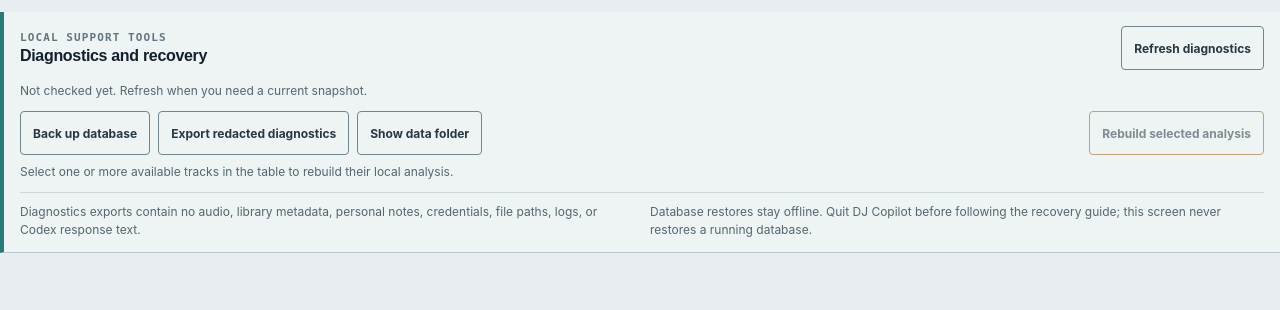
Test: DiagnosticsPanel › gives a failed database backup an actionable retry path
Click the button "Back up database": [85, 133] box [20,111,150,155]
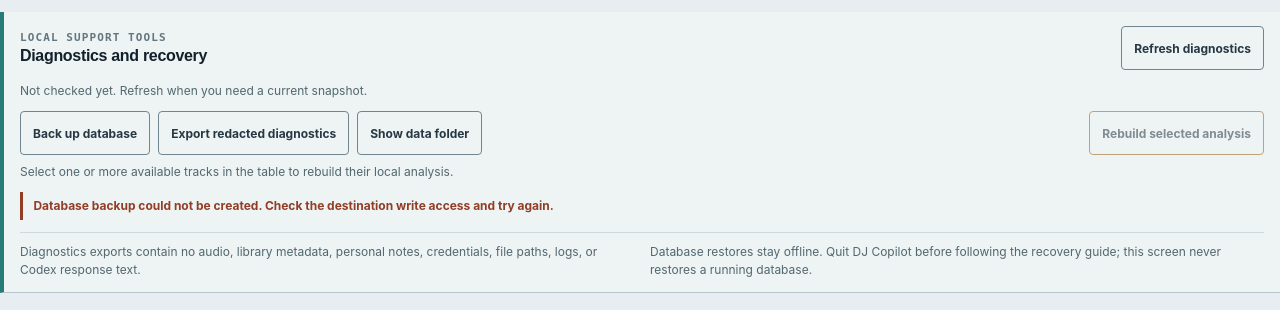
Check: the message shows "Database backup could not be created. Check the destination write access and try again.", box [33,198,554,213]
